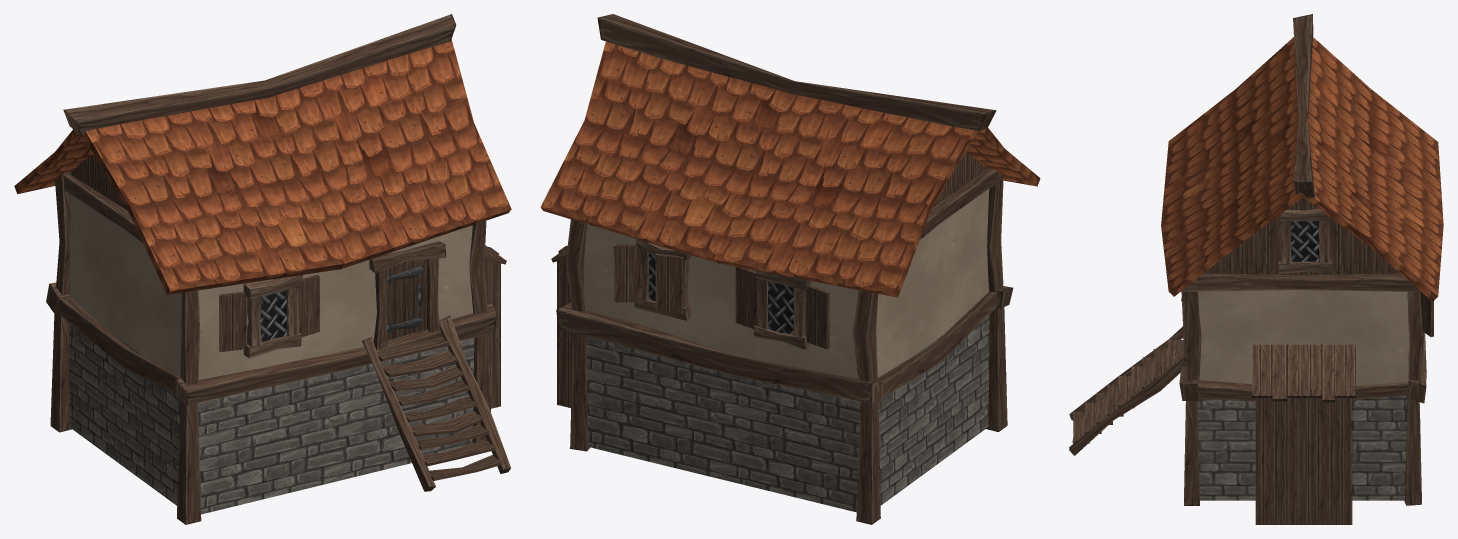
Rendered from grocery_store_01.fbx.
3 views of the same model, side by side, from view 1: azimuth 30°, elevation 25°; view 2: azimuth 150°, elevation 25°; view 3: azimuth 270°, elevation 25° (orthographic). The views are drawn at different scales.
Visible parts, largest first — view 1: grocery_store_01; view 2: grocery_store_01; view 3: grocery_store_01.
Part boxes in pixels (box(x1,y1,x2,y2)): grocery_store_01: box(14, 14, 511, 524); grocery_store_01: box(540, 14, 1040, 524); grocery_store_01: box(1069, 14, 1443, 524).
Size of the model in its own units: 738 by 641 by 644.
